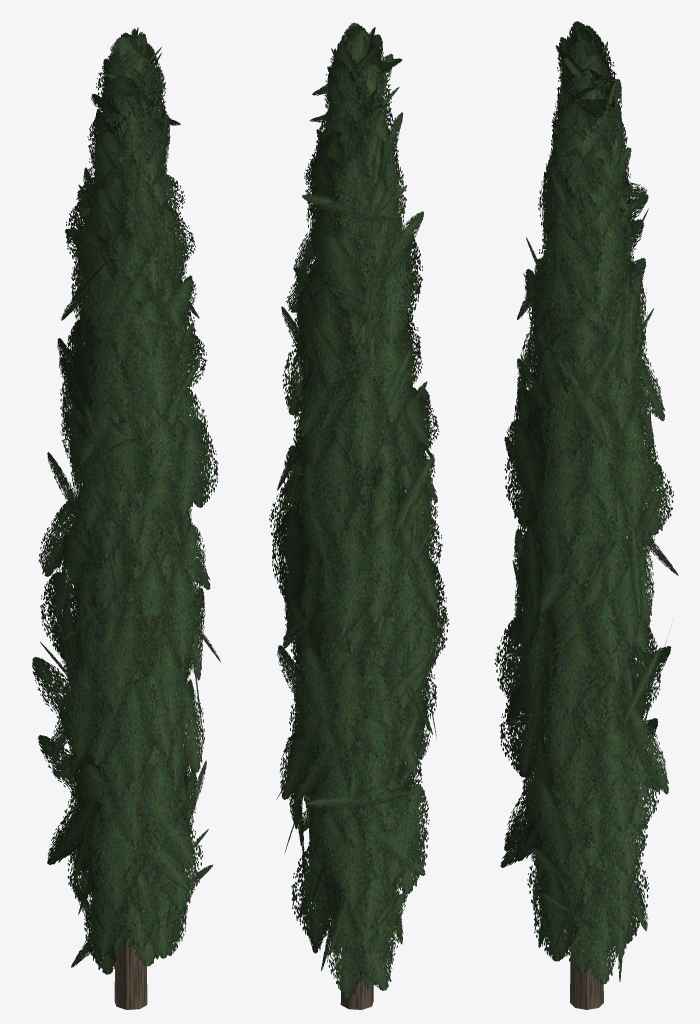
File: Tree_Cypress_1.gltf
The picture shows the model from 3 angles, left to right: view 1: azimuth 30°, elevation 25°; view 2: azimuth 150°, elevation 25°; view 3: azimuth 270°, elevation 25°; orthographic projection.
Visible parts, largest first — view 1: Tree_Cypress_1; view 2: Tree_Cypress_1; view 3: Tree_Cypress_1.
Part boxes in pixels (x1,y1,x2,y2): Tree_Cypress_1: (32, 27, 220, 1009); Tree_Cypress_1: (269, 22, 449, 1009); Tree_Cypress_1: (494, 21, 678, 1009).
Size of the model in its own units: 3.48 by 18.84 by 3.46.
Materials: 2 (2 with a texture image).
